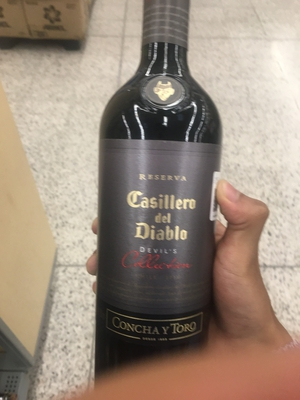casillero del diablo devils collection rojo: (86, 22, 224, 400)
